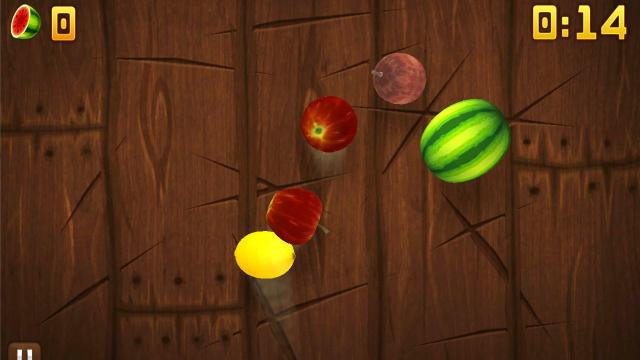fruit: (421, 98, 512, 182), (300, 94, 358, 154), (266, 186, 322, 246), (233, 230, 297, 278), (371, 52, 427, 104)
ignore: (9, 3, 43, 41)
